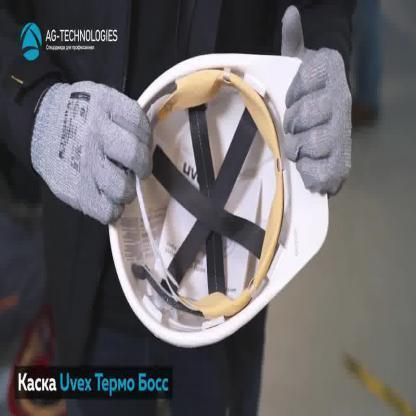gloves: (32, 72, 154, 226), (279, 6, 356, 194)
helmet: (107, 50, 331, 350)
